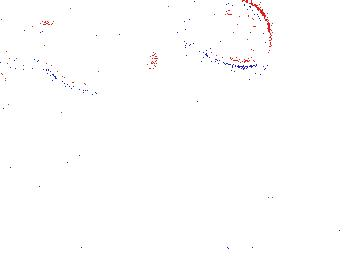moon jellyfish: (27, 20, 157, 94), (104, 1, 228, 58), (195, 1, 273, 67)
